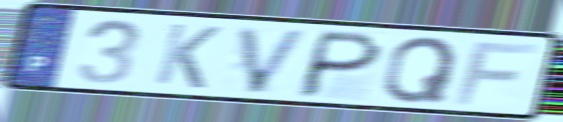3: (76, 17, 144, 85)
F: (451, 40, 543, 107)
K: (151, 20, 225, 91)
P: (292, 28, 387, 101)
Q: (379, 34, 461, 105)
V: (235, 24, 314, 96)
